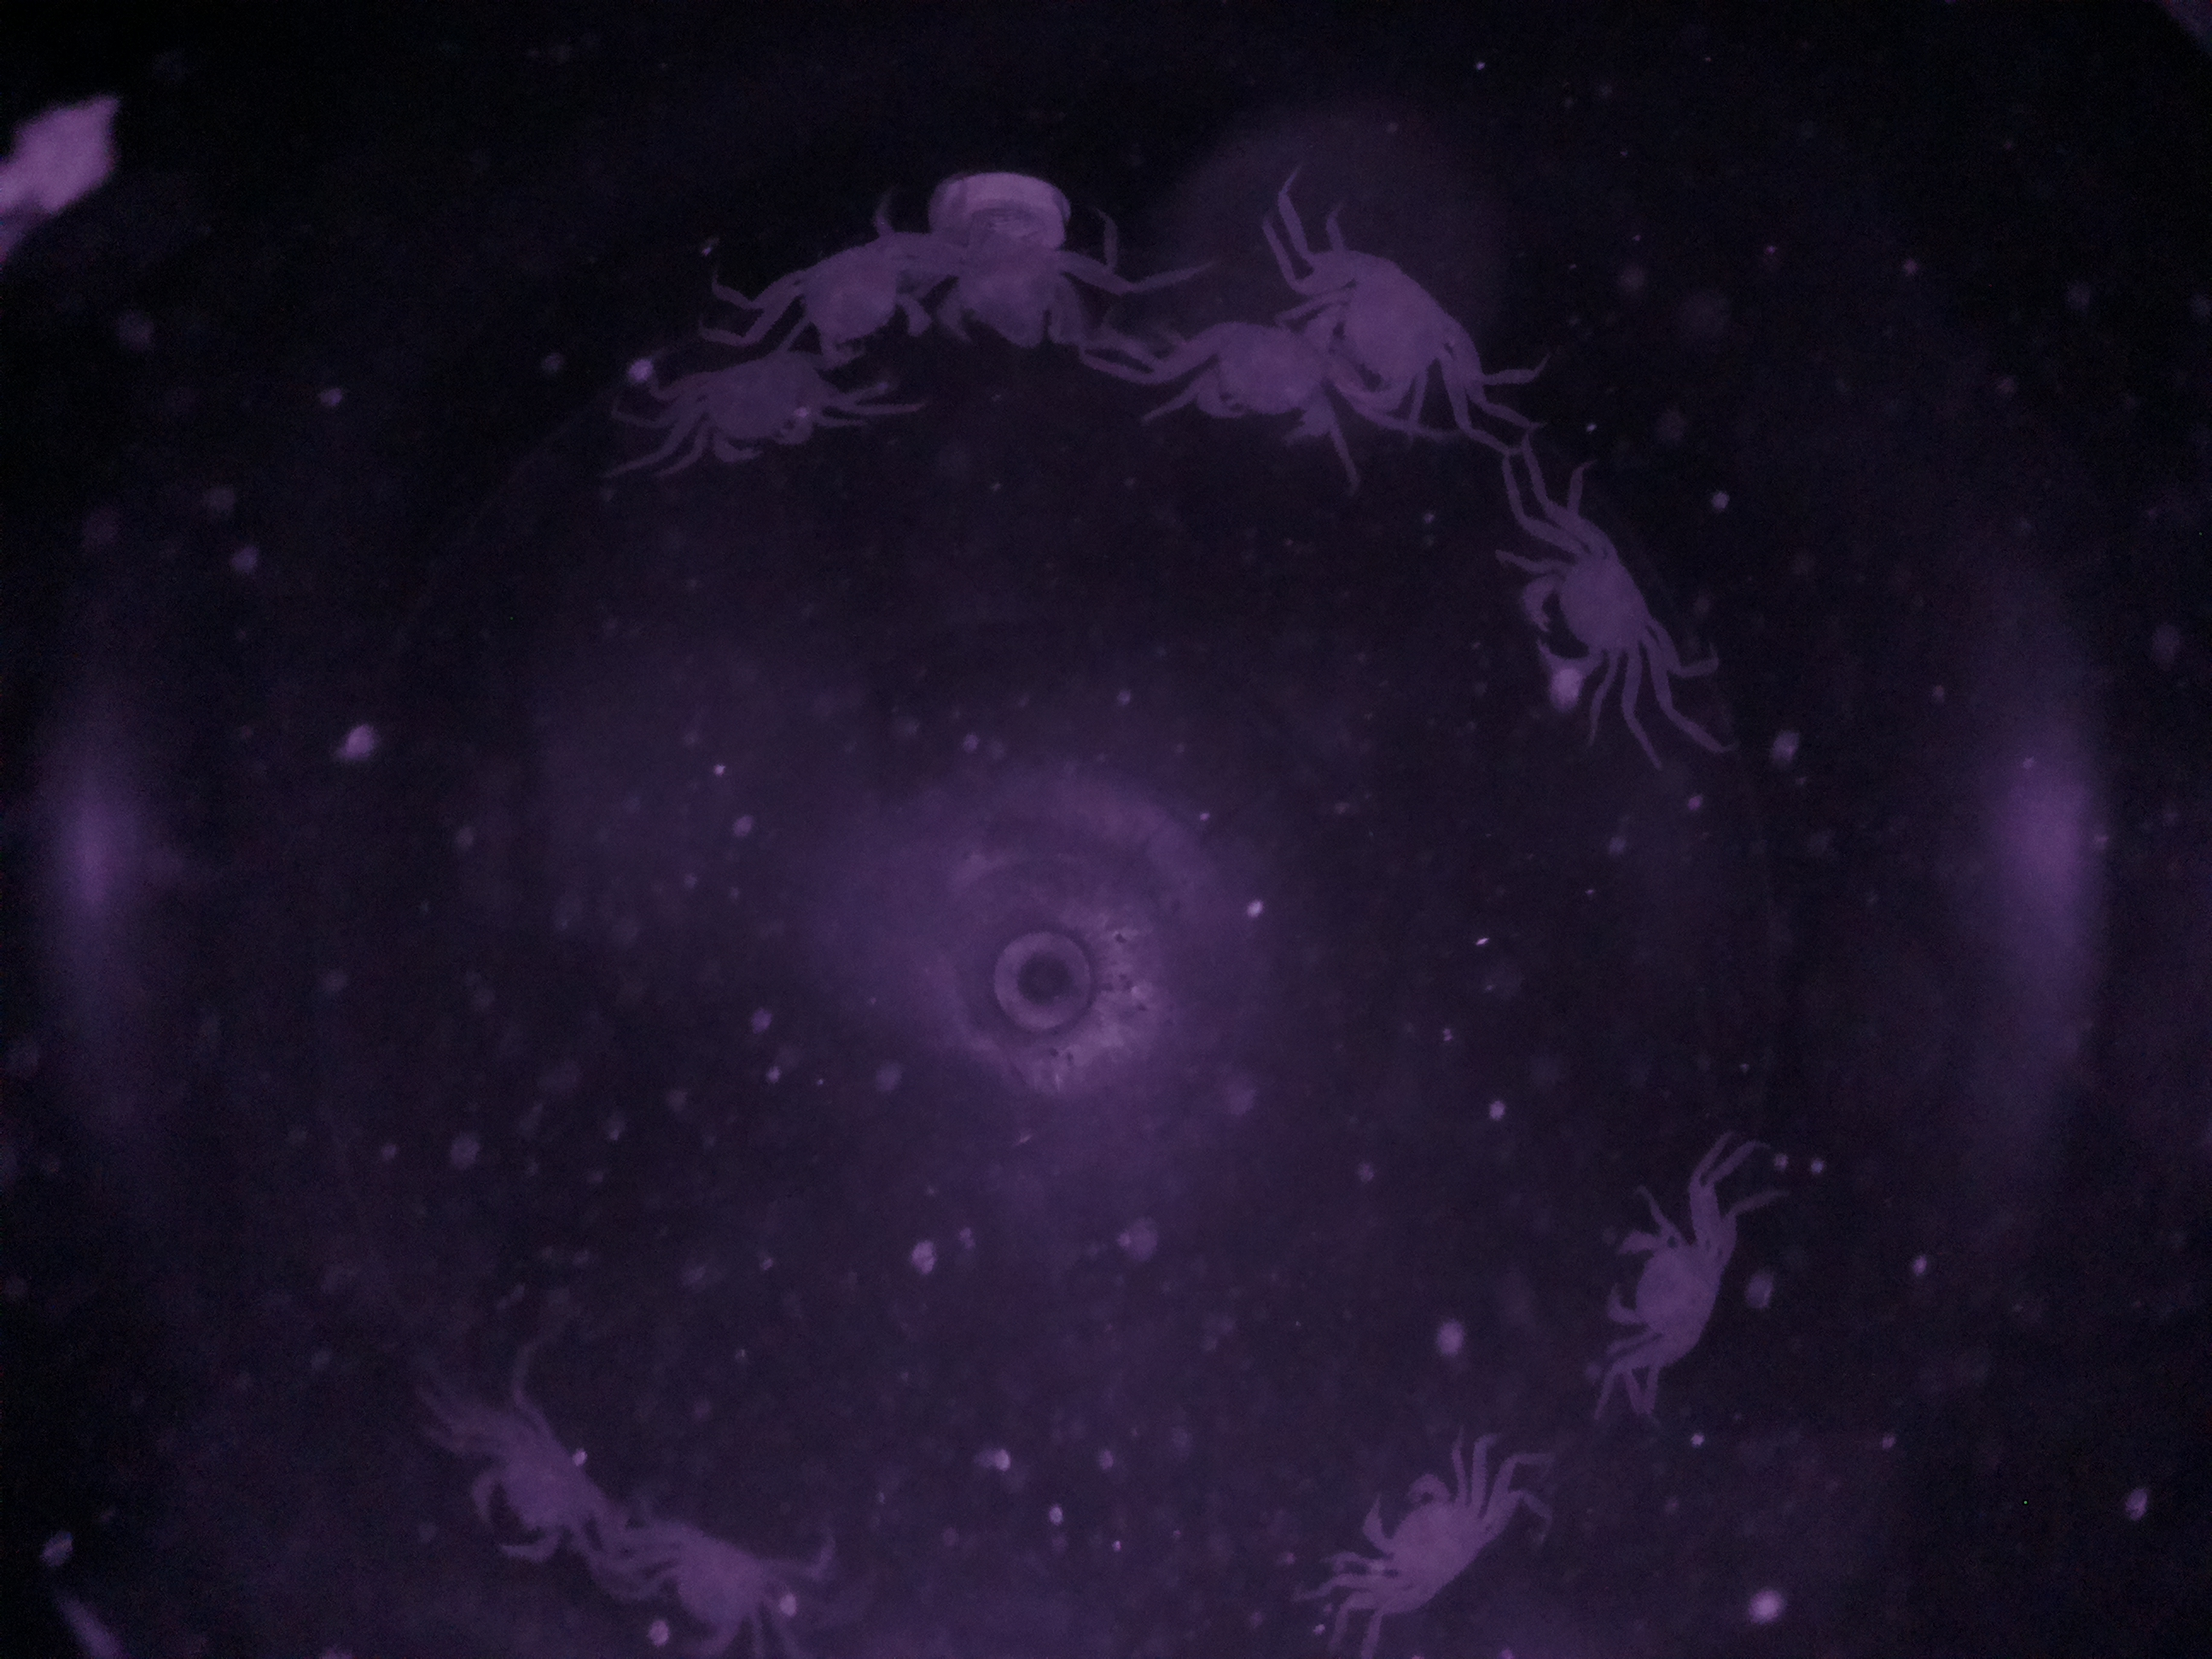Crab: (1507, 495, 1688, 727), (1332, 1441, 1515, 1621), (1590, 1188, 1754, 1378)
